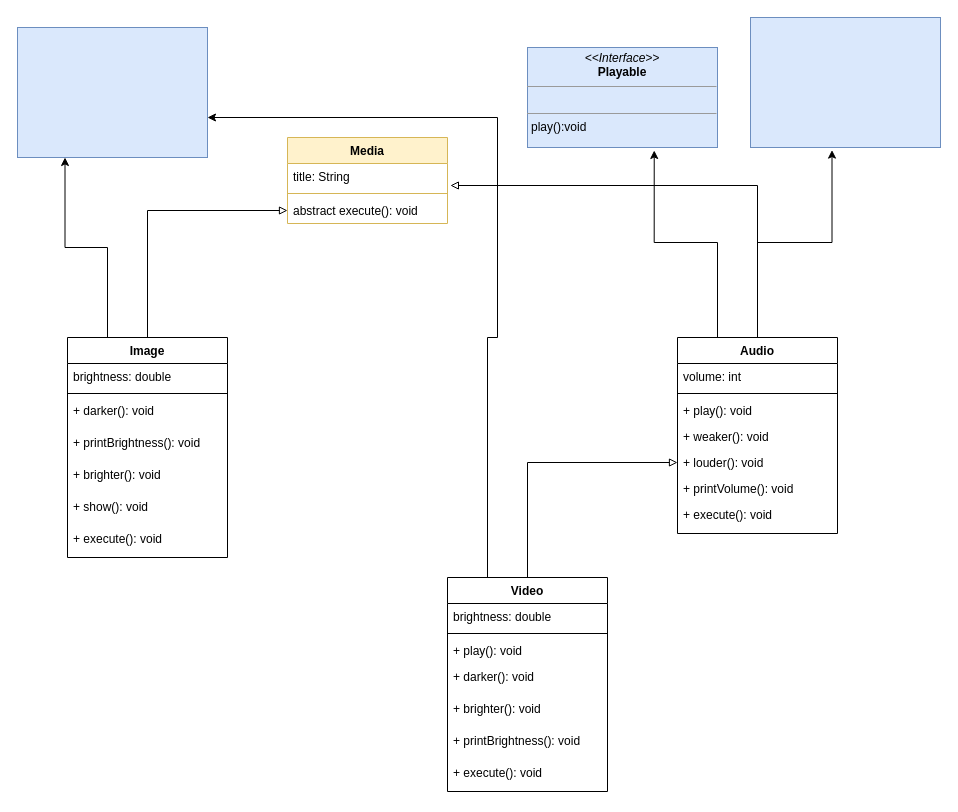
Some shapes in this 958 by 812 pixel diagram are drawn without their labels. The shapes that lost their labels are listed below. From the top down, each one's centre as x and y in pixels, then its label:
(112,92): <<Interface>> HasBrightness darker():void brighter():void printBrightness():void
(845,82): <<Interface>> HasVolume weaker():void louder():void printVolume():void
